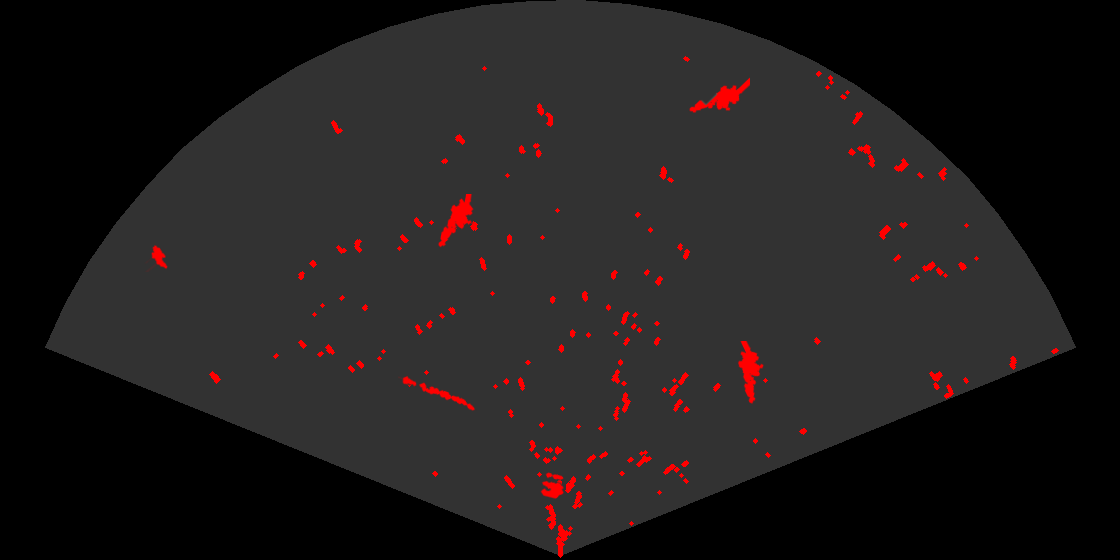AUV: (144, 244, 169, 272)
ball: (539, 471, 565, 500)
chain: (398, 375, 477, 412)
frogman: (688, 76, 750, 115), (437, 194, 475, 249), (736, 341, 765, 405)
